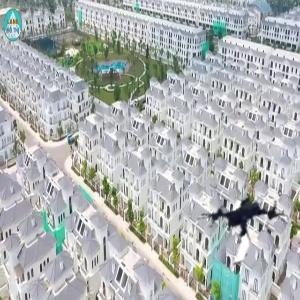drone: (192, 181, 289, 278)
